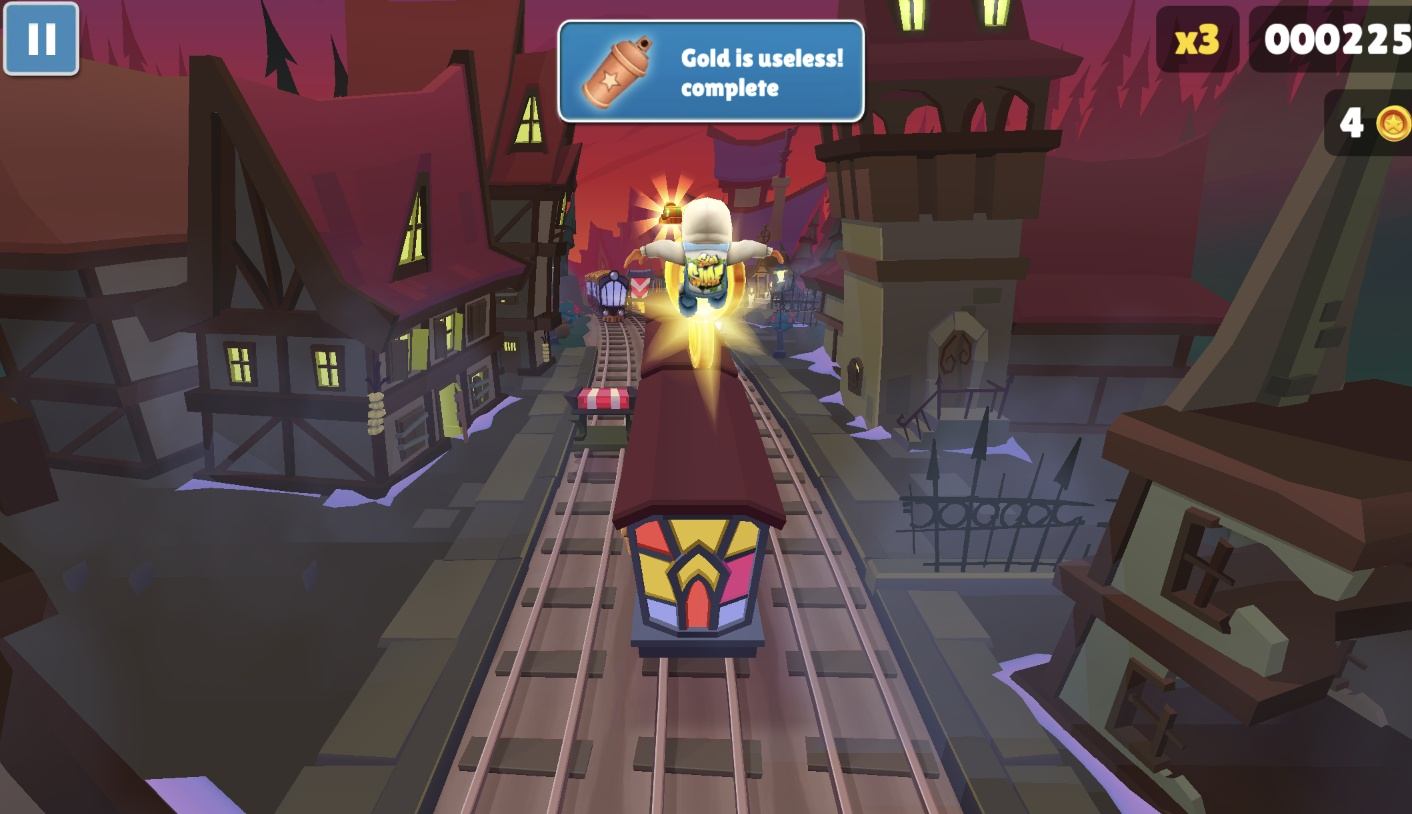ground_barrier: (564, 387, 634, 453)
overhead_barrier: (624, 271, 652, 317)
train: (611, 317, 787, 659), (583, 269, 629, 323)
